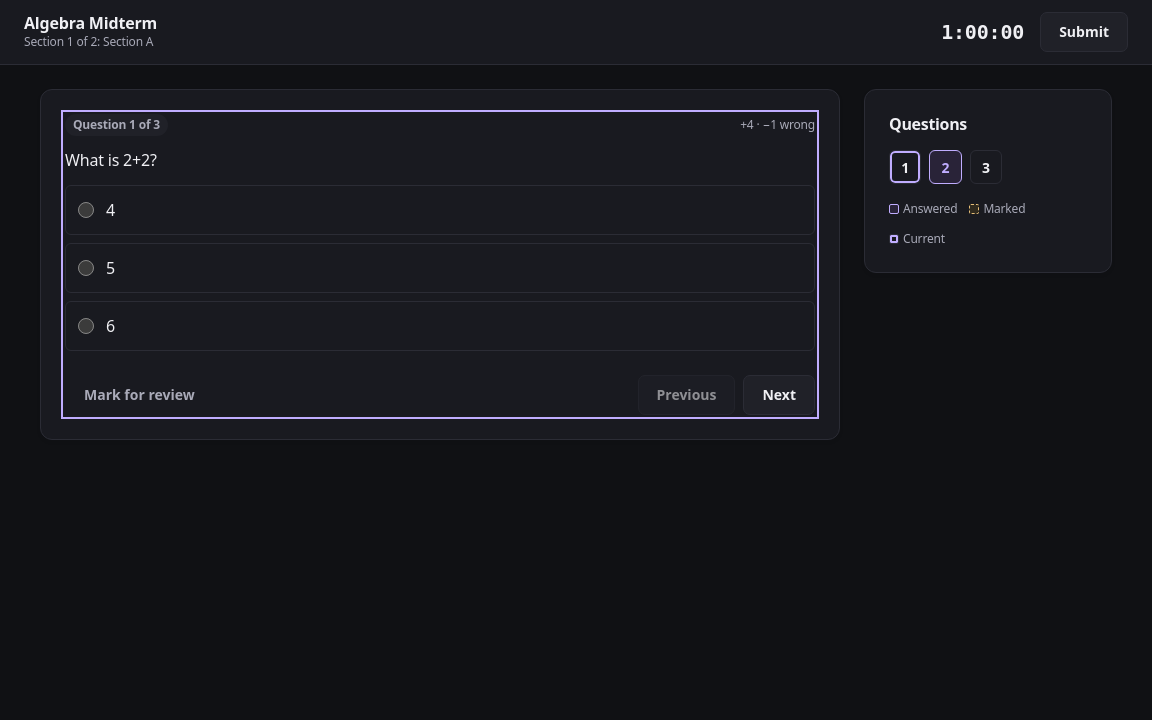
Test: ExamRunner › aborts submission when the pending flush cannot persist
The width and height of the screenshot is (1152, 720).
expect the text "What is 2+2?" is shown: met, box [65,149,157,171]
Click the radio button labelled "5": (86, 268) [78,260,94,276]
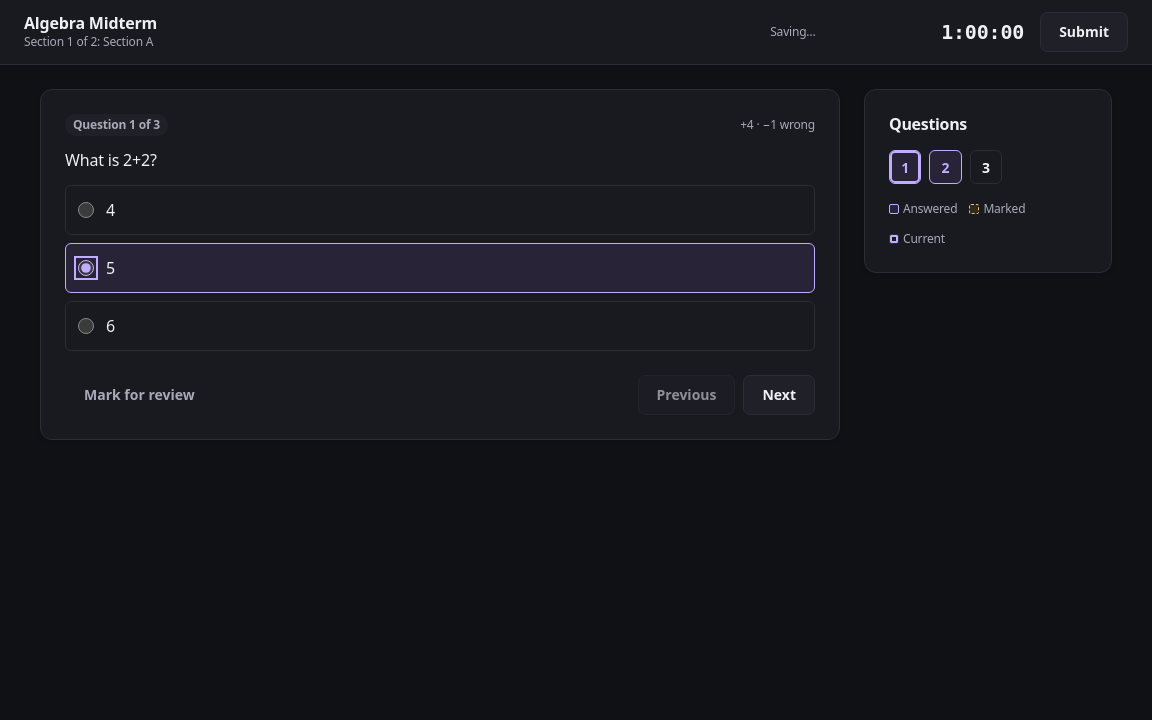
Click the button "Submit": (1084, 32) [1040,12,1128,52]
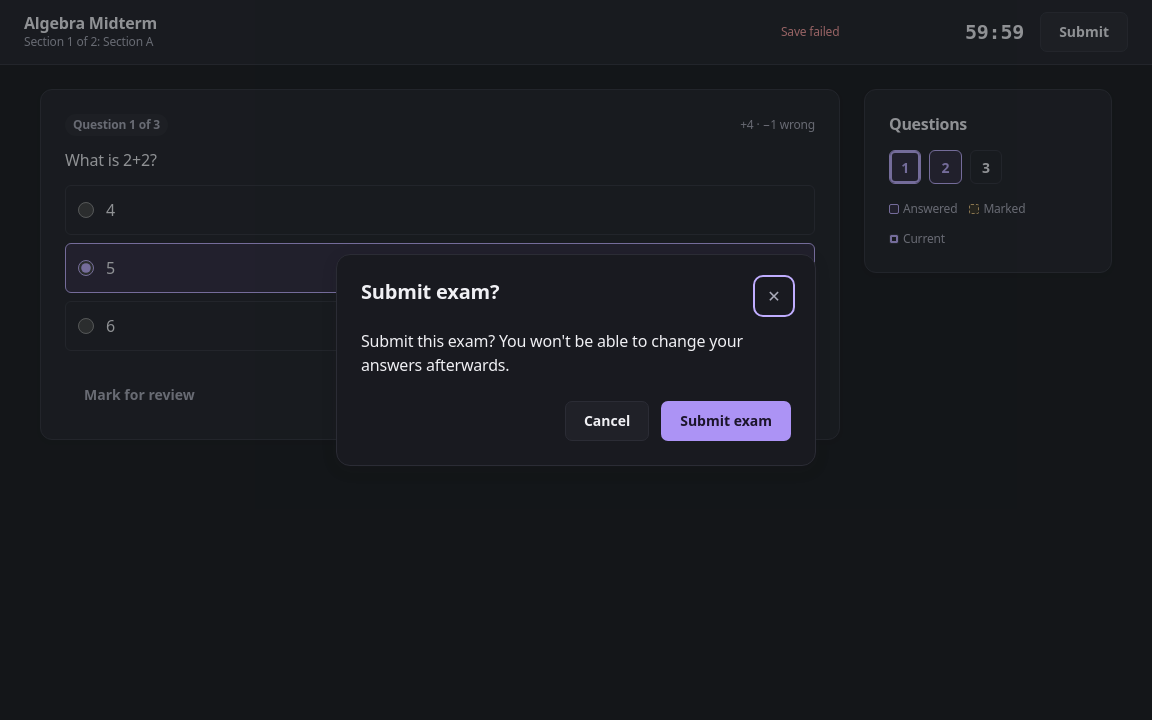
Click the button "Submit exam": (726, 421) [661,401,791,441]
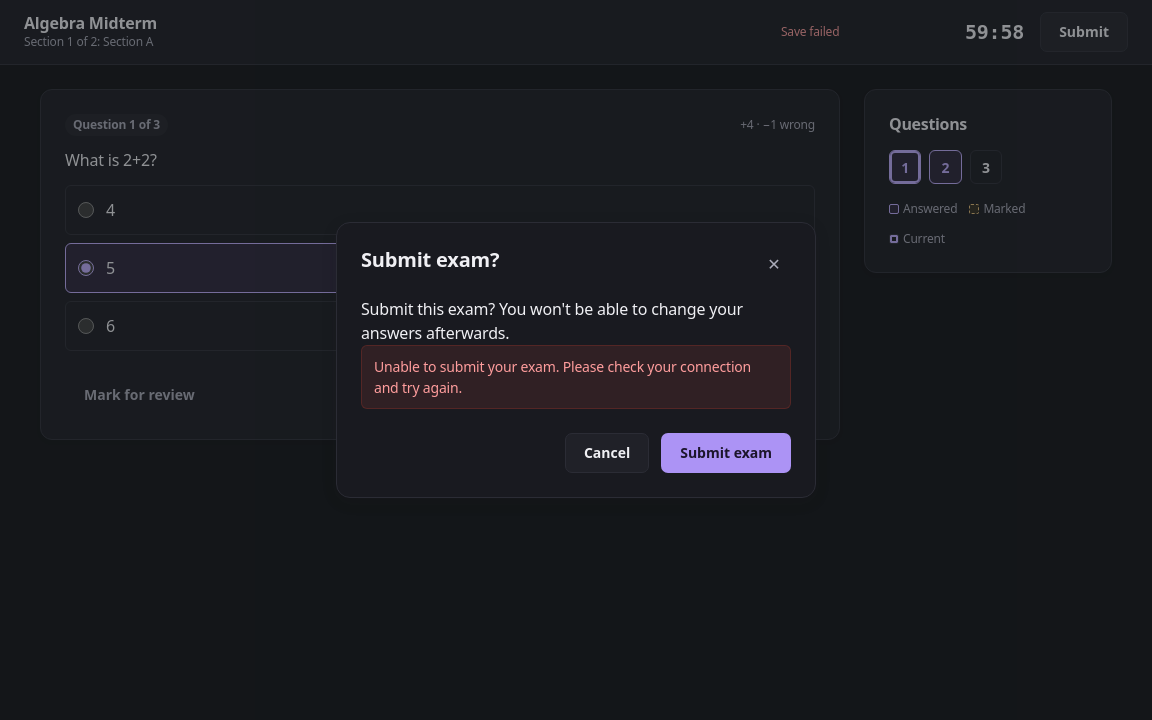
expect the heading "Submit exam?" is shown: met, box [361,247,499,272]
expect the text "Unable to submit your exam" is shown: met, box [374,357,751,397]
